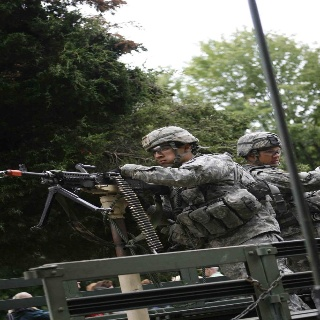rifle: (3, 161, 175, 234)
